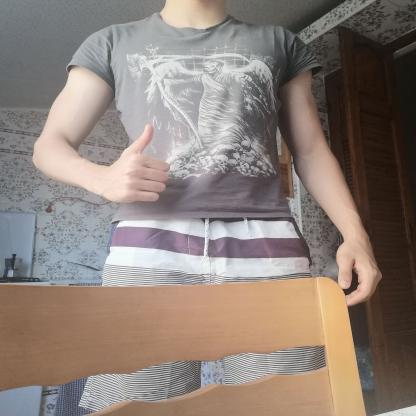ALIF: (93, 116, 182, 214)
